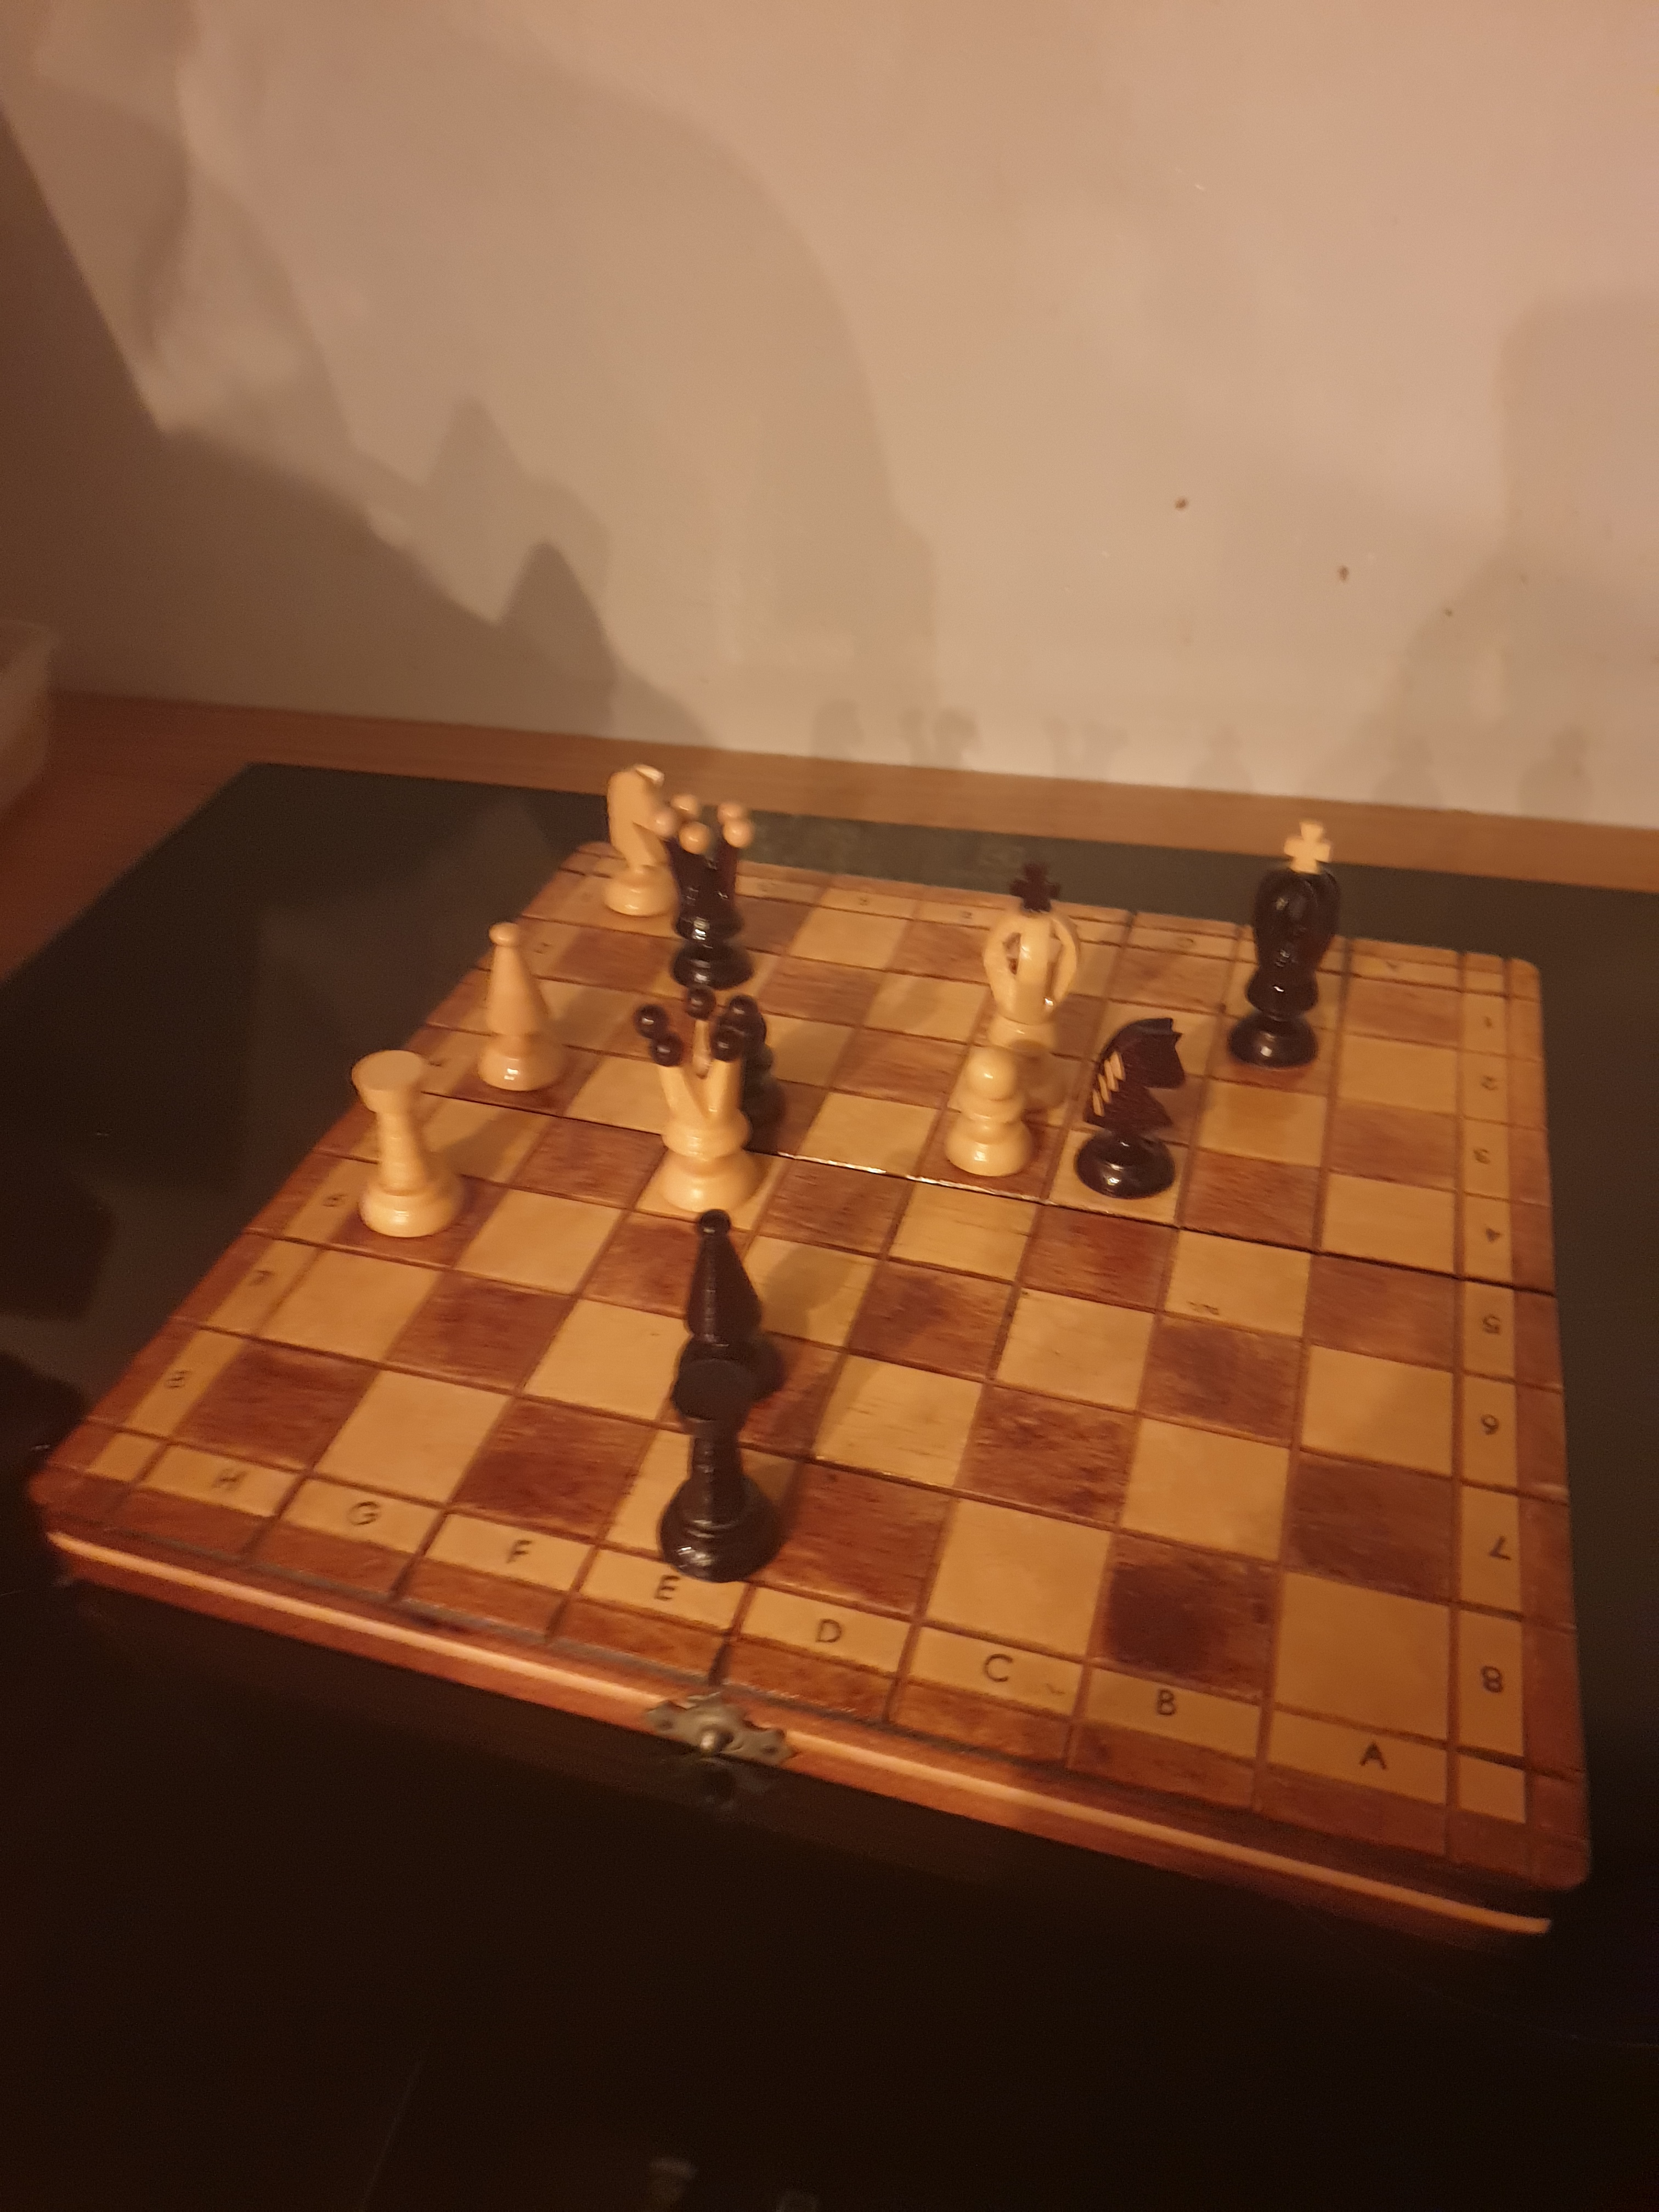bbishop: (660, 1195, 798, 1416)
bking: (1222, 808, 1349, 1082)
bknight: (1066, 1010, 1201, 1211)
bpawn: (706, 984, 798, 1162)
bqueen: (653, 786, 772, 996)
brook: (638, 1350, 798, 1602)
wbishop: (464, 909, 584, 1127)
wking: (974, 855, 1089, 1120)
wknight: (598, 752, 690, 923)
wpawn: (934, 1035, 1044, 1184)
wqueen: (620, 982, 784, 1235)
wrook: (349, 1040, 479, 1263)
